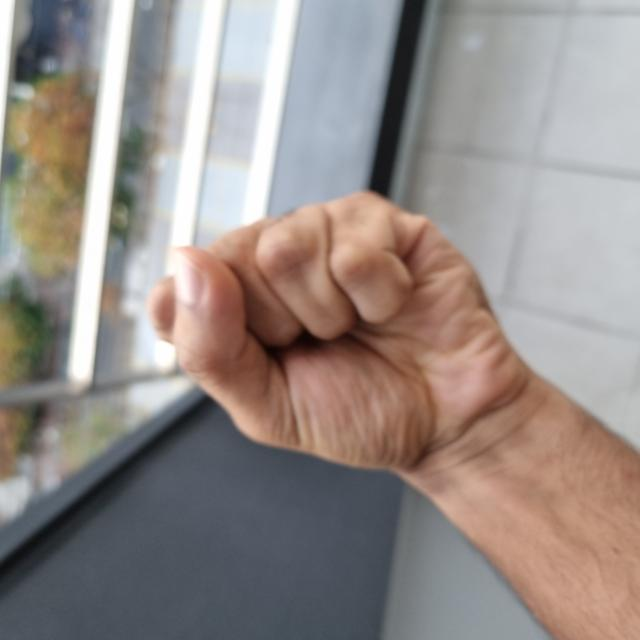Rock: (169, 162, 441, 521)
